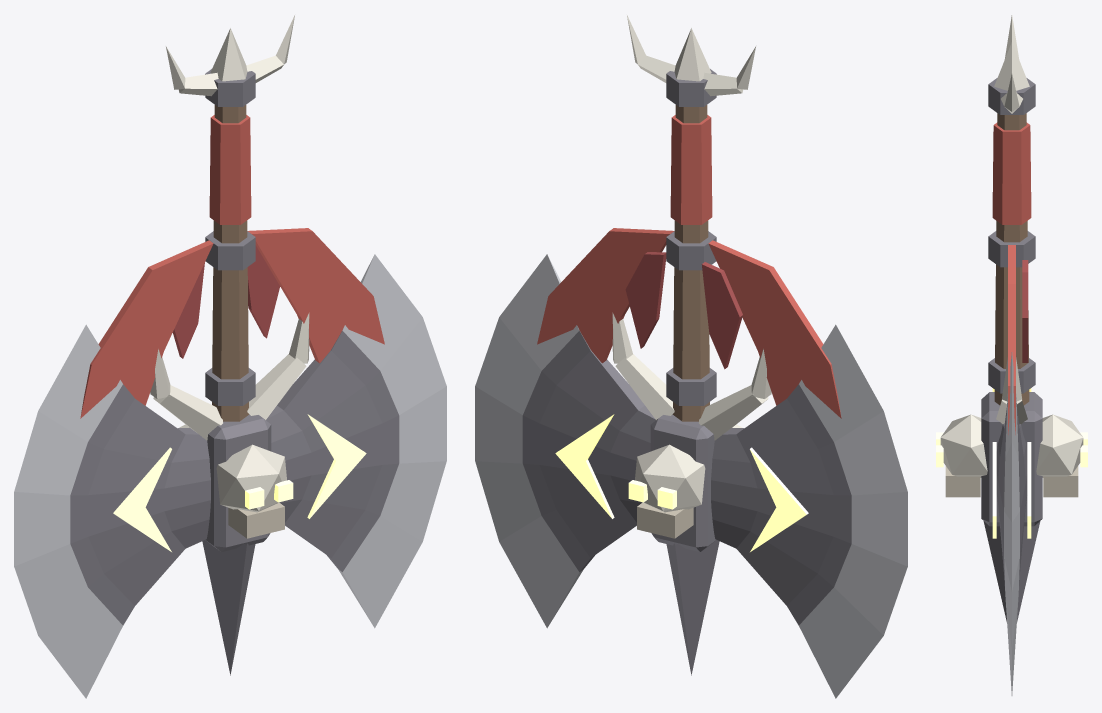
Rendered from prop_durgash_throneaxe.glb.
3 views of the same model, side by side, from view 1: azimuth 30°, elevation 25°; view 2: azimuth 150°, elevation 25°; view 3: azimuth 270°, elevation 25° (orthographic). The views are drawn at different scales.
Parts seen in each view (by area): view 1: prop_durgash_throneaxe; view 2: prop_durgash_throneaxe; view 3: prop_durgash_throneaxe.
Boxes of the visible parts, <box> form: prop_durgash_throneaxe: <box>14,15,446,698</box>; prop_durgash_throneaxe: <box>475,15,907,698</box>; prop_durgash_throneaxe: <box>936,15,1087,695</box>.
Size of the model in its own units: 2.27 by 3.25 by 0.742.
